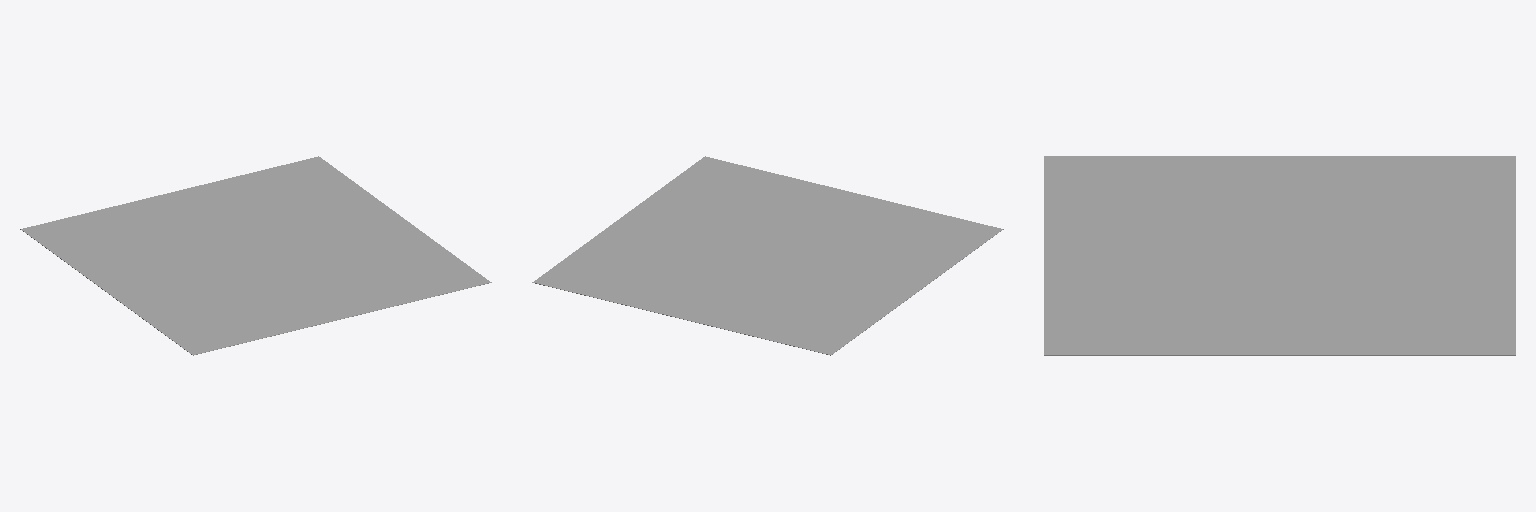
robot.urdf — ground_plane:
<?xml version="1.0"?>
<robot name="ground_plane">
  <!-- A simple ground plane for testing -->

  <link name="ground_link">
    <visual>
      <geometry>
        <box size="10 10 0.01"/>
      </geometry>
      <material name="gray">
        <color rgba="0.7 0.7 0.7 1"/>
      </material>
    </visual>
    <collision>
      <geometry>
        <box size="10 10 0.01"/>
      </geometry>
    </collision>
    <inertial>
      <mass value="1000.0"/>
      <origin xyz="0 0 0" rpy="0 0 0"/>
      <inertia ixx="83.33" ixy="0" ixz="0" iyy="83.33" iyz="0" izz="166.67"/>
    </inertial>
  </link>
</robot>

--- What the picture shows (computed from the rendered views, not written in the file) ---
3 views of the same robot in one strip: view 1: azimuth 30°, elevation 25°; view 2: azimuth 150°, elevation 25°; view 3: azimuth 270°, elevation 25° (orthographic).
Model ground_plane with 1 links and 0 joints (none), rooted at ground_link, posed all joints at 0.
Visible links, largest first — view 1: ground_link; view 2: ground_link; view 3: ground_link.
Boxes of the visible links, x1,y1,x2,y2 form: ground_link: [20, 156, 491, 355]; ground_link: [532, 156, 1003, 355]; ground_link: [1044, 156, 1515, 355].
Bounding box of the posed robot: 10 × 10 × 0.01 m (x, y, z).
Geometry: primitives only (box / cylinder / sphere), no mesh files.
